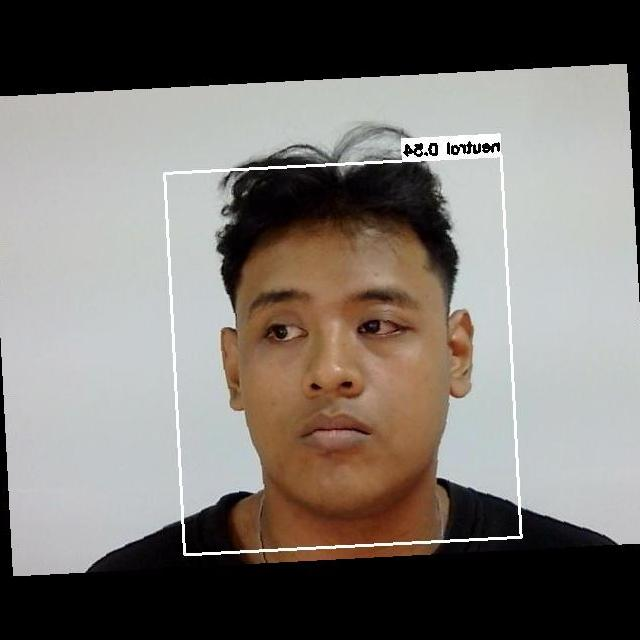Natural: (222, 267, 455, 464)
